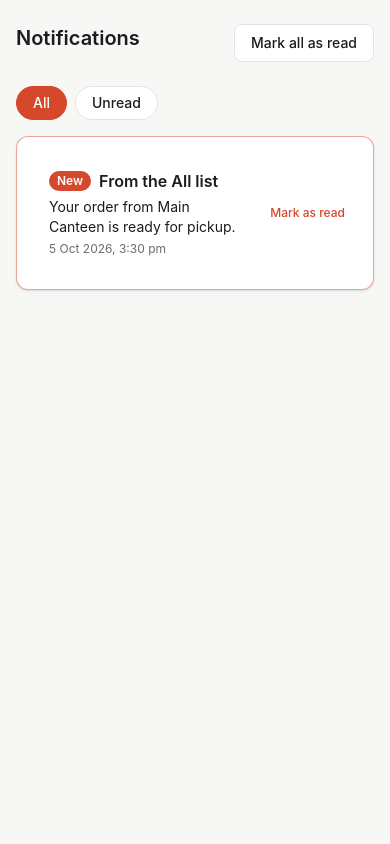
Test case: NotificationsView — All / Unread › does not keep showing the other filter's list while the new one loads
Check: the text "From the All list" is shown, box [99, 169, 218, 193]
Click the button "Unread". click: (116, 103)
box: [75, 86, 158, 120]
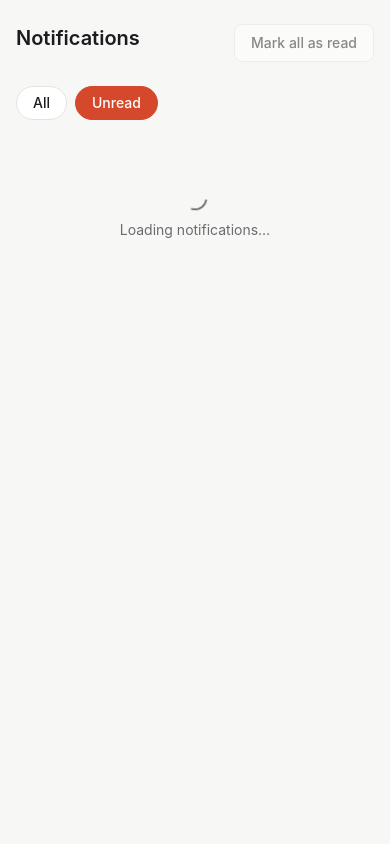
Check: the button "From the All list" is gone
Check: the message reads "Loading notifications…", box [120, 221, 270, 238]
